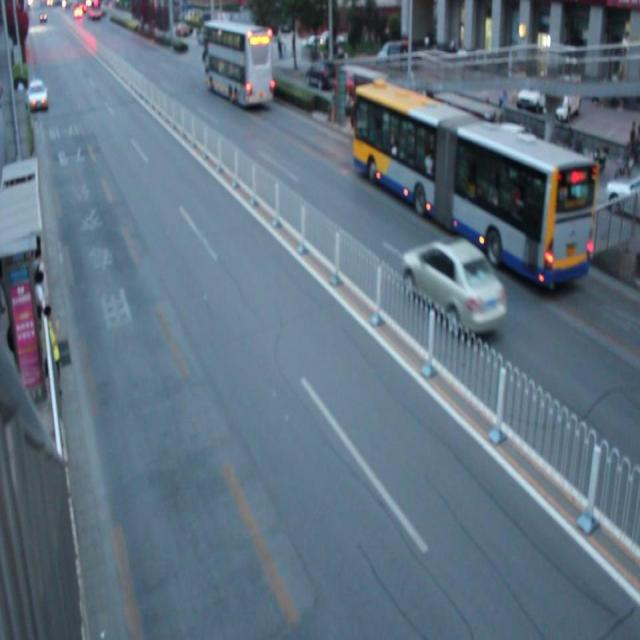car: (401, 235, 507, 341)
van: (352, 83, 594, 282), (203, 18, 272, 108)
